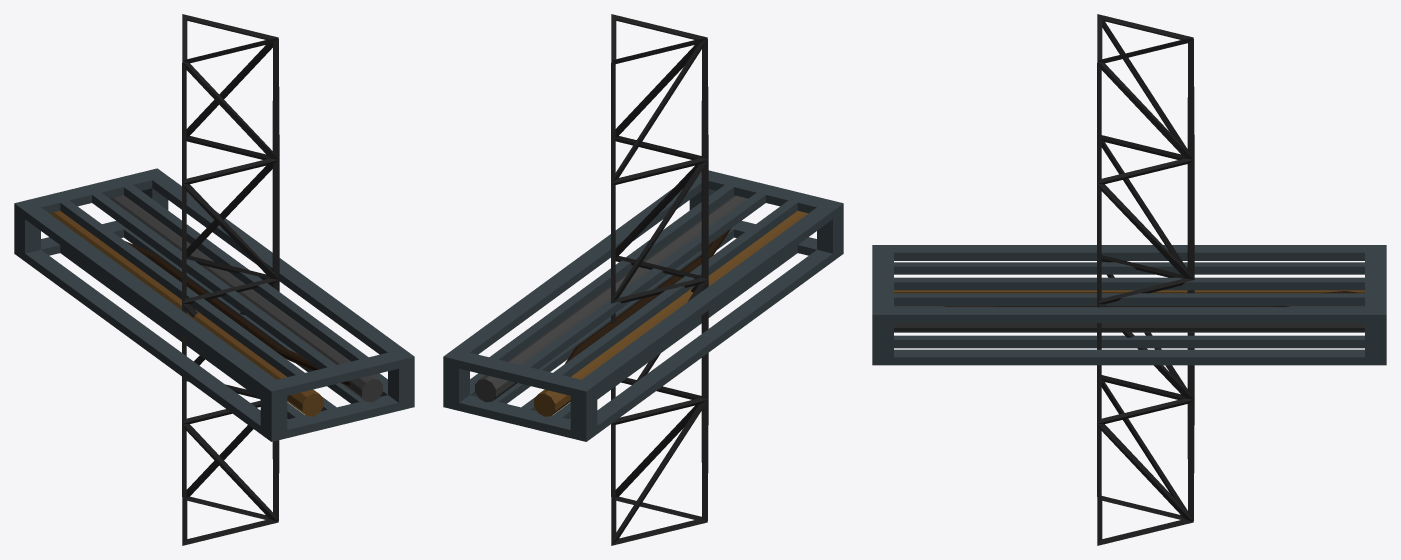
Rendered from structs.glb.
3 views of the same model, side by side, from view 1: azimuth 30°, elevation 25°; view 2: azimuth 150°, elevation 25°; view 3: azimuth 270°, elevation 25° (orthographic).
Parts seen in each view (by area): view 1: Struct1, Struct2; view 2: Struct1, Struct2; view 3: Struct1, Struct2.
Part boxes in pixels (x1,y1,x2,y2): Struct1: [14, 168, 414, 441]; Struct2: [182, 14, 279, 545]; Struct1: [443, 170, 843, 441]; Struct2: [611, 14, 708, 545]; Struct1: [872, 245, 1386, 365]; Struct2: [1097, 14, 1194, 545].
Bounding box in the file's own units: 0.6429 × 2.08 × 2.
Materials: 1 (1 with a texture image).
